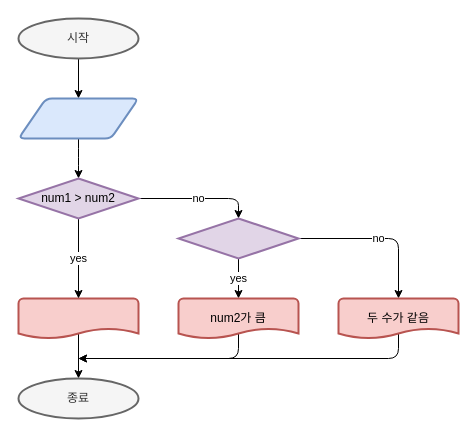
Image size: 476x436. Some labels were removed from this diagram. The box of each missing label's shape, as (x1, y1, x2, y2) in pixels:
num1, num2: (17, 97, 139, 139)
num1이 큼: (17, 297, 139, 339)
num2 > num1: (177, 217, 299, 259)
